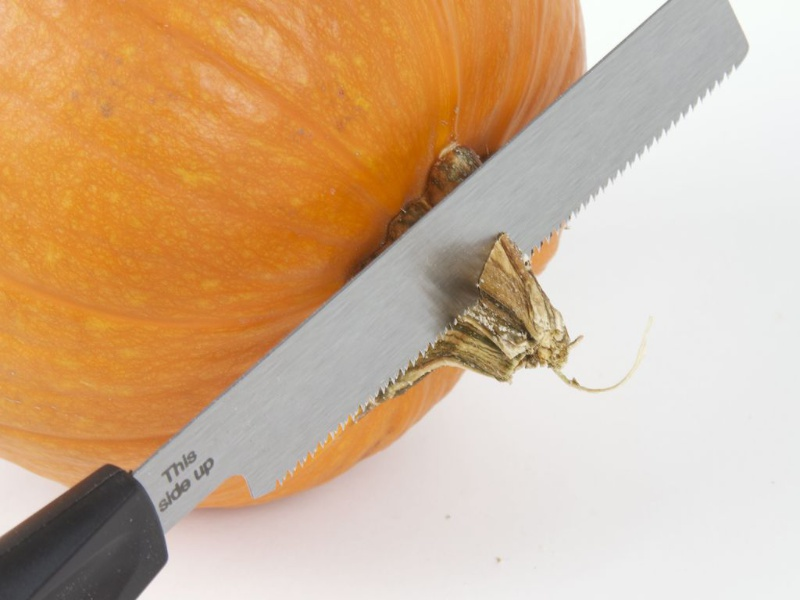knife: (1, 2, 751, 597)
